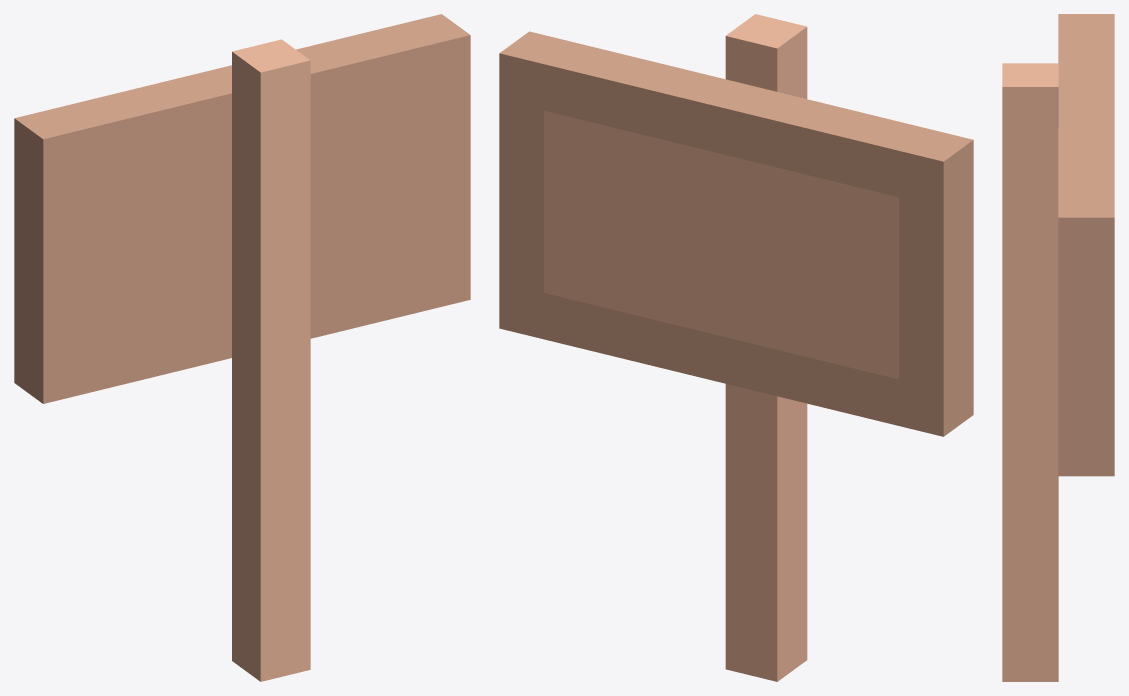
Rendered from sign.glb.
3 renders of one model, left to right at view 1: azimuth 30°, elevation 25°; view 2: azimuth 150°, elevation 25°; view 3: azimuth 270°, elevation 25°, orthographic. The views are drawn at different scales.
Parts seen in each view (by area): view 1: sign; view 2: sign; view 3: sign.
Part boxes in pixels (left/top/right/bottom): sign: left=14, top=14, right=470, bottom=681; sign: left=499, top=14, right=973, bottom=681; sign: left=1002, top=14, right=1114, bottom=681.
Bounding box in the file's own units: 0.3 × 0.4088 × 0.07.
